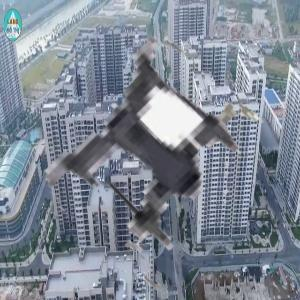drone: (30, 33, 274, 277)
